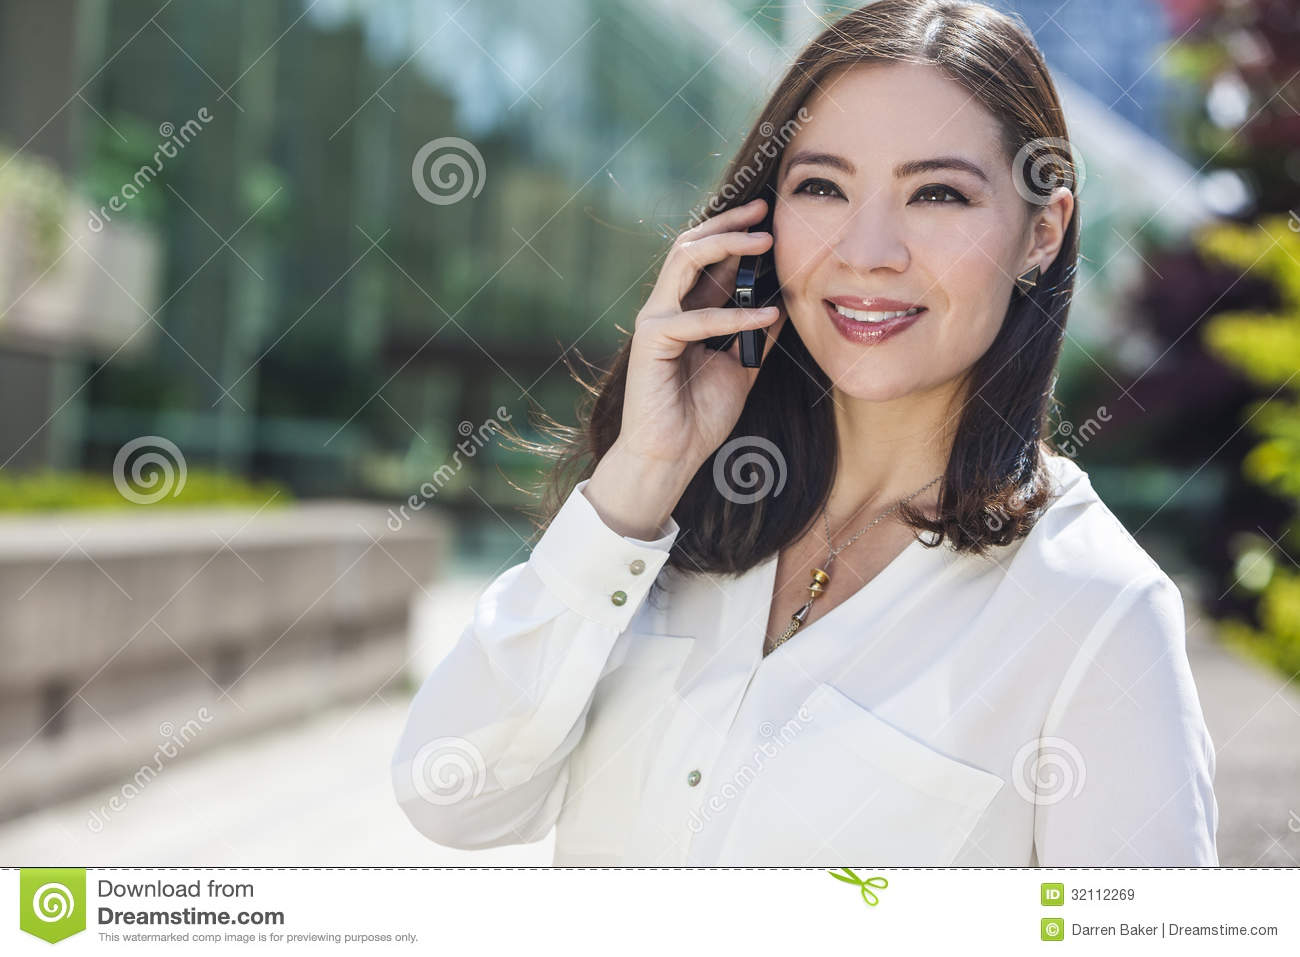phone: (733, 172, 778, 374)
talk: (603, 125, 1020, 520)
